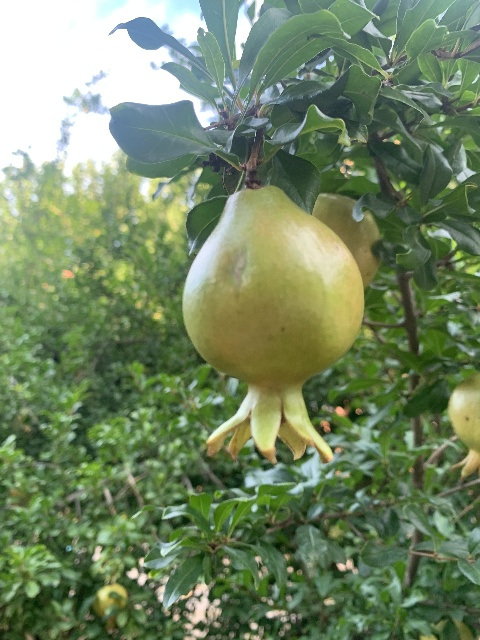mid-growth: (182, 184, 366, 468), (311, 192, 382, 290), (447, 369, 480, 482), (92, 583, 127, 626)
